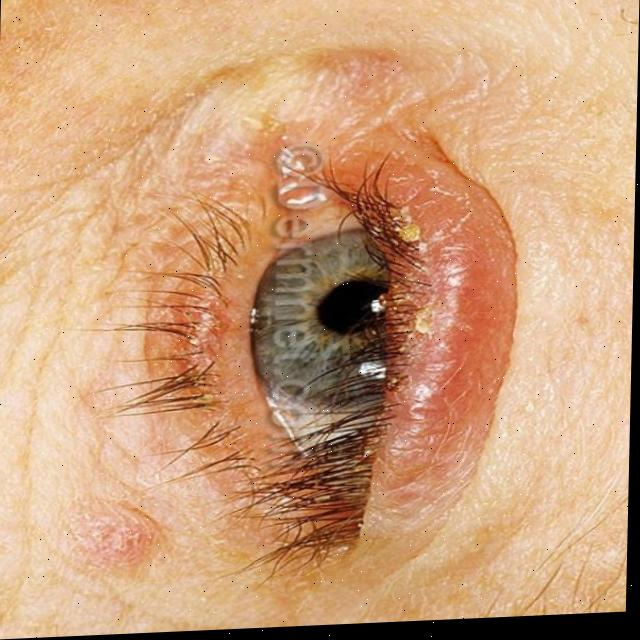Rosacea: (77, 118, 520, 580)
